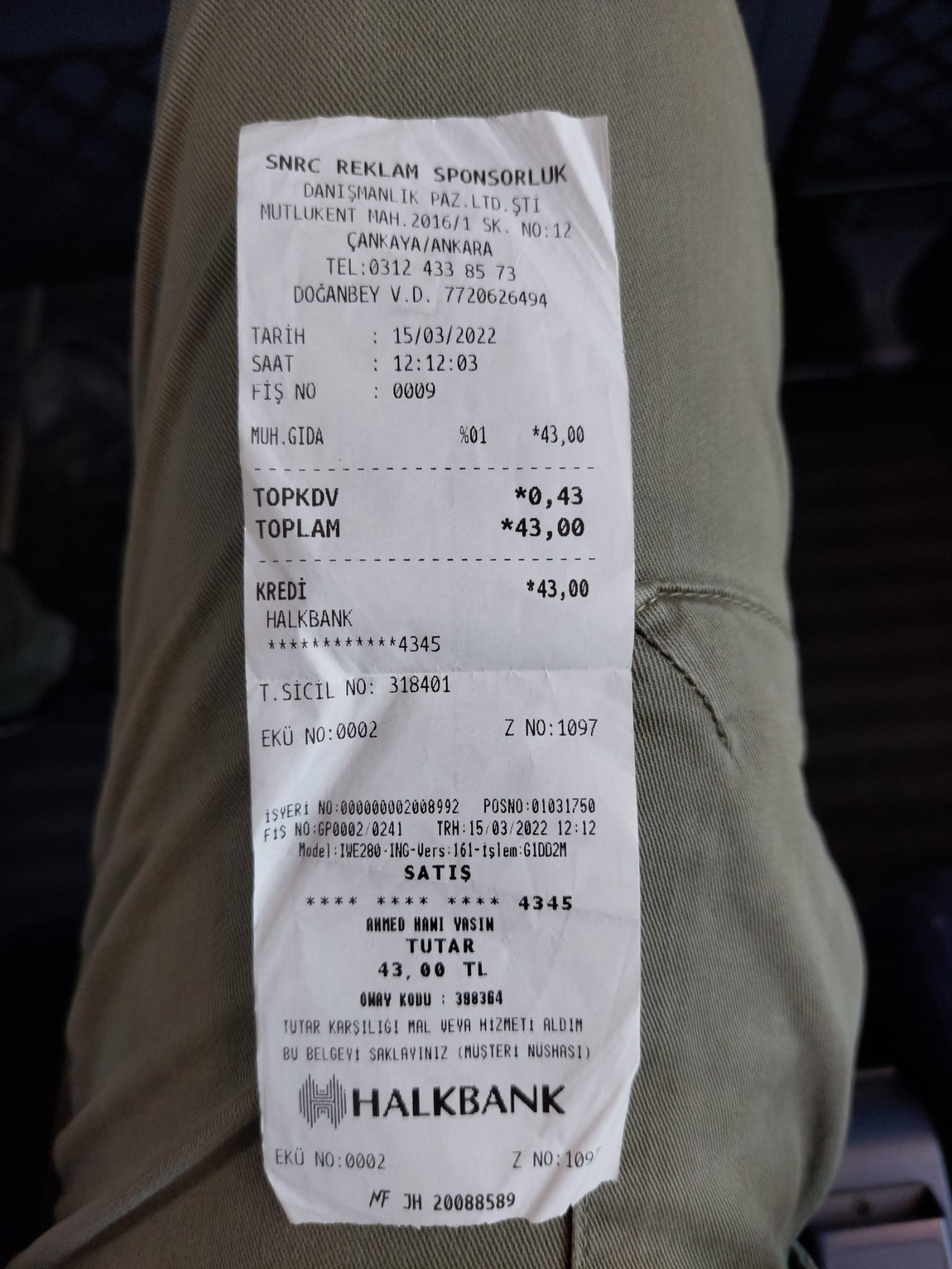date: (507, 510, 595, 551)
price: (382, 319, 504, 352)
workplace: (251, 144, 589, 259)
